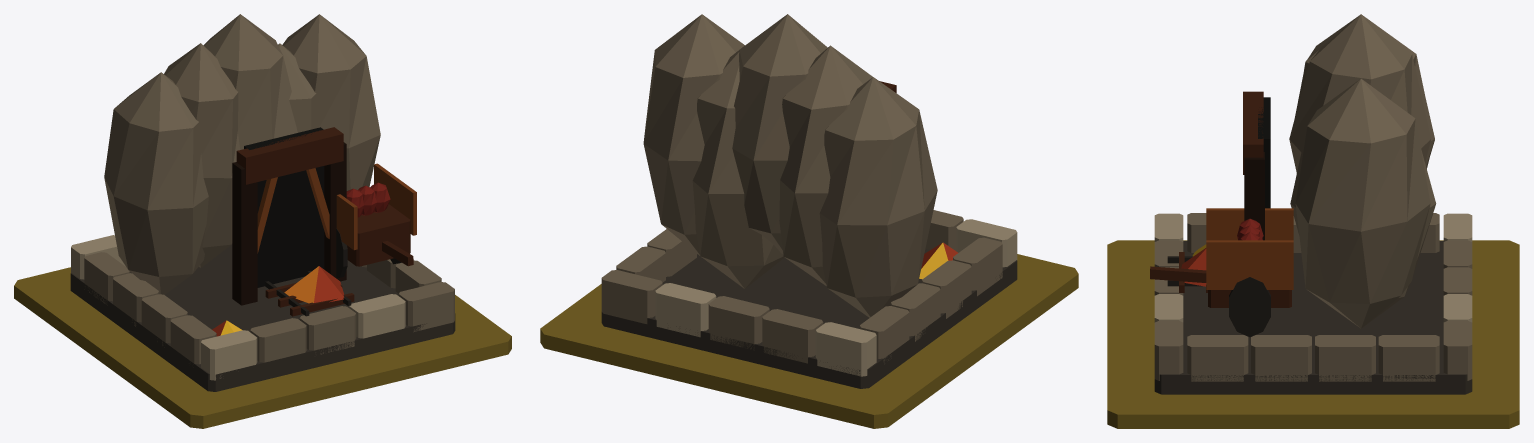
Rendered from emberglass_t2.glb.
3 renders of one model, left to right at view 1: azimuth 30°, elevation 25°; view 2: azimuth 150°, elevation 25°; view 3: azimuth 270°, elevation 25°, orthographic. The views are drawn at different scales.
Parts seen in each view (by area): view 1: MMR | emberglass | T02 Architecture.001, MMR | emberglass | Tier 02 Ground.001, MMR | emberglass | T02 Autumn Dressing.001; view 2: MMR | emberglass | T02 Architecture.001, MMR | emberglass | Tier 02 Ground.001, MMR | emberglass | T02 Autumn Dressing.001; view 3: MMR | emberglass | T02 Architecture.001, MMR | emberglass | Tier 02 Ground.001, MMR | emberglass | T02 Autumn Dressing.001.
Boxes of the visible parts, bbox=[...] form: MMR | emberglass | T02 Architecture.001: bbox=[70, 14, 455, 391]; MMR | emberglass | Tier 02 Ground.001: bbox=[14, 267, 511, 428]; MMR | emberglass | T02 Autumn Dressing.001: bbox=[212, 266, 344, 336]; MMR | emberglass | T02 Architecture.001: bbox=[601, 14, 1017, 388]; MMR | emberglass | Tier 02 Ground.001: bbox=[540, 254, 1078, 428]; MMR | emberglass | T02 Autumn Dressing.001: bbox=[919, 242, 957, 279]; MMR | emberglass | T02 Architecture.001: bbox=[1150, 14, 1472, 394]; MMR | emberglass | Tier 02 Ground.001: bbox=[1107, 240, 1519, 428]; MMR | emberglass | T02 Autumn Dressing.001: bbox=[1181, 244, 1206, 286].
Size of the model in its own units: 1.3 by 1.14 by 1.3.
1 material, 1 textured.
